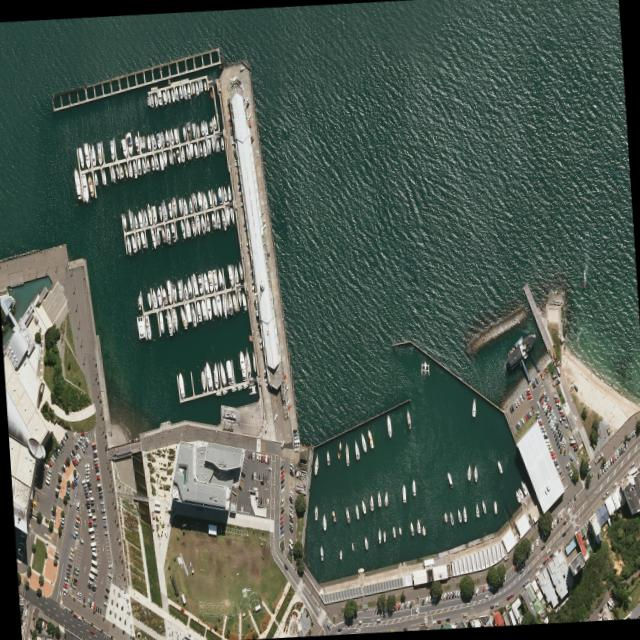large-vehicle: (594, 452, 603, 464), (552, 377, 560, 386), (90, 566, 97, 574), (548, 347, 553, 357), (556, 366, 561, 376), (88, 572, 94, 579), (91, 559, 97, 566), (90, 541, 96, 547), (504, 554, 509, 561), (88, 527, 94, 532), (475, 587, 479, 594), (613, 481, 617, 488), (289, 543, 293, 550), (76, 453, 80, 460), (289, 538, 293, 545), (247, 113, 251, 120), (265, 423, 268, 432), (81, 479, 86, 484), (540, 371, 543, 379), (602, 494, 606, 500), (605, 490, 609, 496), (92, 515, 96, 520), (88, 512, 92, 517), (97, 483, 101, 487), (570, 440, 575, 443), (90, 497, 94, 500), (86, 479, 90, 482)
ship: (505, 330, 538, 372), (238, 349, 247, 381), (73, 167, 82, 199), (204, 361, 213, 391), (81, 173, 90, 203), (136, 314, 146, 340), (244, 347, 252, 377), (179, 304, 188, 329), (225, 360, 234, 385), (165, 308, 173, 336), (83, 142, 91, 169), (144, 314, 152, 340), (191, 272, 199, 297), (219, 360, 226, 386), (190, 302, 197, 327), (178, 372, 185, 397), (126, 132, 133, 157), (166, 280, 173, 304), (207, 270, 214, 293), (227, 264, 234, 287), (216, 294, 223, 317), (87, 174, 94, 197), (222, 293, 228, 319), (202, 272, 209, 294), (217, 268, 224, 290), (231, 290, 238, 312), (200, 299, 207, 320), (360, 432, 367, 453), (353, 439, 360, 460), (367, 428, 374, 449), (220, 208, 227, 229), (121, 138, 128, 159), (172, 308, 178, 332), (227, 291, 233, 315), (386, 414, 392, 438), (212, 269, 218, 292), (206, 298, 212, 321), (127, 207, 133, 230), (162, 198, 168, 221), (147, 202, 153, 225), (90, 143, 96, 166), (78, 146, 84, 169), (130, 234, 137, 253), (187, 277, 193, 299), (196, 300, 202, 322), (195, 214, 201, 236), (150, 227, 156, 249), (313, 453, 319, 475), (213, 362, 218, 388), (177, 280, 183, 301), (190, 216, 196, 237), (200, 213, 206, 234), (172, 197, 178, 218), (170, 221, 176, 242), (156, 287, 162, 307), (211, 297, 217, 317), (152, 288, 158, 308), (197, 191, 203, 211), (185, 217, 191, 237), (192, 192, 198, 212), (180, 219, 186, 239), (200, 371, 206, 391), (134, 134, 140, 154), (186, 121, 192, 141), (97, 142, 102, 165), (215, 209, 221, 228), (135, 232, 141, 251), (132, 159, 138, 178), (520, 480, 527, 496), (159, 310, 164, 332), (241, 292, 247, 310), (202, 191, 208, 209), (207, 189, 213, 207), (217, 187, 223, 205), (140, 230, 146, 248), (137, 210, 143, 228), (158, 152, 164, 170), (198, 274, 203, 295), (166, 223, 171, 244), (360, 499, 367, 514), (110, 140, 115, 161), (183, 283, 189, 300), (182, 197, 188, 214), (160, 225, 166, 242), (447, 471, 453, 488), (229, 207, 235, 224), (126, 235, 131, 255), (406, 409, 411, 429), (172, 284, 177, 303), (162, 287, 167, 306), (234, 264, 239, 283), (152, 205, 157, 224), (345, 443, 349, 466), (238, 261, 243, 279), (122, 213, 127, 231), (202, 139, 207, 157), (111, 165, 116, 183), (237, 290, 242, 307), (211, 212, 216, 229), (225, 209, 230, 226), (178, 198, 183, 215), (143, 209, 148, 226), (462, 505, 467, 522), (345, 506, 350, 523), (151, 133, 156, 150), (154, 153, 159, 170), (160, 131, 165, 148), (146, 134, 151, 151), (141, 157, 146, 174), (164, 129, 169, 146), (169, 128, 174, 145), (497, 460, 503, 474), (481, 500, 487, 514), (168, 202, 173, 218), (133, 213, 138, 229), (472, 397, 476, 417), (156, 132, 161, 148), (185, 144, 190, 160), (191, 123, 196, 139), (182, 126, 187, 142), (173, 128, 178, 144), (156, 226, 160, 245), (402, 484, 406, 503), (147, 293, 152, 308), (158, 206, 163, 221), (449, 510, 454, 525), (409, 521, 414, 536), (363, 535, 368, 550), (206, 138, 211, 153), (211, 136, 216, 151), (166, 88, 171, 103), (186, 83, 191, 98), (115, 164, 120, 179), (102, 169, 107, 184), (193, 143, 198, 158), (206, 213, 210, 231), (518, 487, 524, 499), (457, 508, 462, 522), (416, 519, 421, 533), (150, 156, 155, 170), (176, 149, 181, 163), (198, 142, 203, 156), (189, 143, 194, 157), (123, 163, 128, 177), (178, 85, 183, 99), (170, 88, 175, 102), (194, 81, 199, 95), (467, 464, 471, 481), (128, 160, 132, 177), (515, 490, 520, 503), (331, 510, 336, 523), (188, 197, 192, 213), (475, 502, 479, 518), (322, 514, 326, 530), (314, 504, 318, 520), (370, 494, 374, 510), (377, 491, 381, 507), (412, 479, 416, 495), (384, 491, 388, 507), (227, 184, 231, 200), (137, 158, 141, 174), (200, 120, 204, 136), (158, 90, 162, 106), (326, 450, 330, 465), (355, 504, 359, 519), (223, 186, 227, 201), (163, 151, 167, 166), (204, 120, 208, 135), (154, 93, 158, 108), (183, 84, 187, 99), (175, 86, 179, 101), (493, 500, 497, 514), (146, 157, 150, 171), (220, 136, 224, 150), (120, 164, 124, 178), (213, 192, 217, 205), (168, 151, 172, 164), (216, 138, 220, 151), (196, 124, 200, 137), (162, 91, 166, 104), (94, 172, 98, 185), (320, 545, 323, 561), (474, 466, 477, 482), (392, 526, 396, 538), (378, 528, 381, 544), (172, 151, 176, 163), (181, 146, 184, 162), (191, 82, 195, 94), (199, 79, 203, 91), (209, 121, 213, 132), (203, 80, 207, 91), (213, 115, 216, 129), (150, 93, 153, 107), (358, 568, 364, 574), (422, 525, 425, 536), (444, 512, 447, 522), (147, 96, 150, 106), (339, 550, 342, 559), (210, 90, 213, 98), (383, 530, 385, 542), (339, 441, 341, 450), (583, 282, 585, 288)
small-vehicle: (540, 543, 545, 551), (51, 507, 57, 513), (421, 597, 425, 606), (92, 550, 97, 557), (289, 466, 294, 473), (229, 77, 233, 85), (245, 96, 249, 104), (273, 413, 277, 421), (164, 530, 168, 538), (457, 589, 461, 597), (454, 590, 458, 598), (448, 591, 452, 599), (424, 596, 428, 604), (409, 600, 413, 608), (406, 600, 410, 608), (400, 601, 404, 609), (397, 602, 401, 610), (81, 445, 85, 453), (85, 436, 89, 444), (71, 448, 75, 456), (75, 454, 79, 462), (74, 457, 78, 465), (238, 189, 242, 197), (524, 413, 528, 421), (536, 400, 540, 408), (557, 441, 561, 449), (550, 422, 554, 430), (79, 538, 84, 544), (75, 518, 80, 524), (525, 578, 530, 584), (546, 548, 551, 554), (64, 576, 69, 582), (68, 555, 73, 561), (77, 438, 82, 444), (50, 517, 55, 523), (45, 479, 50, 485), (236, 79, 241, 85), (565, 462, 570, 468), (627, 435, 631, 442), (233, 75, 237, 82), (280, 463, 284, 470), (289, 470, 293, 477), (584, 523, 588, 530), (630, 461, 634, 468), (280, 518, 284, 525), (289, 512, 293, 519), (289, 502, 293, 509), (289, 493, 293, 500), (289, 489, 293, 496), (289, 526, 293, 533), (403, 601, 407, 608), (394, 603, 398, 610), (280, 533, 284, 540), (280, 528, 284, 535), (75, 472, 79, 479), (82, 442, 86, 449), (50, 456, 54, 463), (61, 465, 65, 472), (64, 432, 68, 439), (63, 463, 67, 470), (53, 452, 57, 459), (52, 454, 56, 461), (265, 380, 269, 387), (515, 423, 519, 430), (559, 417, 563, 424), (533, 380, 537, 387), (561, 436, 564, 445), (90, 535, 95, 540), (376, 617, 381, 622), (66, 566, 71, 571), (67, 563, 72, 568), (79, 435, 84, 440), (19, 541, 24, 546), (527, 395, 532, 400), (250, 137, 254, 143), (287, 404, 291, 410), (262, 224, 266, 230), (261, 219, 265, 225), (241, 471, 245, 477), (266, 498, 269, 506), (73, 533, 77, 539), (75, 566, 79, 572), (88, 580, 92, 586), (103, 601, 107, 607), (238, 484, 242, 490), (90, 628, 94, 634), (95, 604, 98, 612), (91, 586, 95, 592), (91, 601, 94, 609), (87, 598, 90, 606), (78, 592, 81, 600), (290, 462, 294, 468), (538, 564, 542, 570), (519, 568, 523, 574), (482, 584, 485, 592), (443, 592, 446, 600), (549, 552, 553, 558), (631, 431, 635, 437), (611, 598, 615, 604), (531, 544, 534, 552), (563, 519, 567, 525), (562, 531, 566, 537), (553, 519, 556, 527), (279, 514, 283, 520), (280, 508, 284, 514), (289, 507, 293, 513), (280, 504, 284, 510), (280, 498, 284, 504), (280, 488, 284, 494), (280, 478, 284, 484), (280, 473, 284, 479), (289, 517, 293, 523), (428, 595, 431, 603), (289, 548, 292, 556), (74, 570, 78, 576), (63, 583, 67, 589), (63, 587, 67, 593), (26, 600, 29, 608), (24, 609, 27, 617), (76, 591, 79, 599), (73, 612, 77, 618), (77, 615, 81, 621), (72, 479, 75, 487), (60, 515, 64, 521), (46, 475, 50, 481), (58, 471, 62, 477), (66, 485, 70, 491), (66, 494, 70, 500), (76, 442, 80, 448), (60, 519, 64, 525), (59, 523, 63, 529), (54, 554, 58, 560), (70, 547, 74, 553), (47, 468, 51, 474), (48, 461, 52, 467), (70, 452, 74, 458), (56, 446, 60, 452), (57, 484, 61, 490), (260, 342, 263, 350), (263, 372, 267, 378), (264, 376, 268, 382), (239, 195, 243, 201), (521, 417, 524, 425), (520, 394, 523, 402), (548, 415, 551, 423), (542, 401, 545, 409), (526, 411, 529, 419), (555, 433, 558, 441), (563, 439, 566, 447), (539, 394, 542, 402), (553, 415, 556, 423), (574, 385, 578, 391), (568, 469, 572, 475), (567, 465, 571, 471), (234, 159, 237, 166), (287, 399, 290, 406), (261, 210, 264, 217), (99, 607, 102, 614), (485, 583, 488, 590), (452, 591, 455, 598), (446, 592, 449, 599), (281, 467, 284, 474), (586, 520, 589, 527), (588, 527, 591, 534), (289, 497, 292, 504), (280, 523, 283, 530), (327, 623, 330, 630), (74, 478, 77, 485), (84, 441, 87, 448), (72, 460, 75, 467), (61, 439, 64, 446), (59, 441, 62, 448), (55, 449, 58, 456), (251, 277, 254, 284), (250, 267, 253, 274), (246, 101, 249, 108), (244, 225, 247, 232), (516, 398, 519, 405), (509, 406, 512, 413), (511, 404, 514, 411), (528, 410, 531, 417), (547, 411, 550, 418), (544, 405, 547, 412), (560, 434, 563, 441), (558, 430, 561, 437), (557, 427, 560, 434), (552, 426, 555, 433), (549, 419, 552, 426), (551, 412, 554, 419), (547, 402, 550, 409), (546, 397, 549, 404), (544, 394, 547, 401), (543, 391, 546, 398), (532, 382, 535, 389), (535, 377, 538, 384), (556, 438, 559, 445), (240, 66, 244, 71), (293, 428, 297, 433), (268, 466, 272, 471), (294, 447, 299, 451), (103, 523, 107, 528), (108, 573, 112, 578), (104, 594, 108, 599), (74, 526, 78, 531), (75, 523, 79, 528), (76, 515, 80, 520), (105, 587, 109, 592), (180, 607, 184, 612), (87, 584, 91, 589), (506, 595, 510, 600), (289, 522, 293, 527), (337, 627, 341, 632), (102, 515, 106, 520), (64, 580, 68, 585), (66, 570, 70, 575), (73, 577, 77, 582), (73, 581, 77, 586), (72, 584, 76, 589), (93, 453, 97, 458), (70, 552, 74, 557), (83, 483, 87, 488), (99, 494, 103, 499), (65, 490, 69, 495), (55, 487, 59, 492), (55, 549, 59, 554), (541, 531, 543, 541), (490, 604, 494, 609), (526, 391, 530, 396), (569, 456, 573, 461), (283, 373, 286, 379), (285, 386, 288, 392), (281, 483, 284, 489), (71, 483, 74, 489), (63, 434, 66, 440), (64, 461, 67, 467), (263, 367, 266, 373), (246, 240, 249, 246), (517, 421, 520, 427), (514, 401, 517, 407), (521, 393, 524, 399), (541, 397, 544, 403), (554, 420, 557, 426), (550, 408, 553, 414), (265, 454, 267, 462), (261, 454, 263, 462), (259, 453, 261, 461), (252, 452, 254, 460), (265, 474, 267, 482), (262, 473, 264, 481), (294, 443, 298, 447), (294, 435, 298, 439), (293, 432, 297, 436), (256, 149, 258, 157), (108, 564, 112, 568), (91, 508, 95, 512), (89, 600, 91, 608), (510, 593, 514, 597), (494, 603, 498, 607), (625, 440, 627, 448), (462, 613, 466, 617), (432, 620, 436, 624), (260, 481, 264, 485), (403, 627, 407, 631), (104, 531, 108, 535), (597, 471, 599, 479), (66, 574, 70, 578), (85, 471, 89, 475), (85, 463, 89, 467), (94, 461, 98, 465), (94, 457, 98, 461), (95, 468, 99, 472), (92, 446, 96, 450), (95, 465, 99, 469), (96, 472, 100, 476), (86, 502, 90, 506), (85, 498, 89, 502), (87, 482, 91, 486), (88, 486, 92, 490), (101, 509, 105, 513), (98, 490, 102, 494), (96, 476, 100, 480), (18, 552, 22, 556), (21, 534, 25, 538), (573, 447, 577, 451), (535, 410, 539, 414), (556, 402, 560, 406), (604, 463, 606, 471), (610, 457, 612, 465), (569, 436, 573, 440), (599, 468, 601, 476), (526, 388, 530, 392), (522, 582, 525, 587), (546, 556, 549, 561), (543, 560, 546, 565), (92, 450, 97, 453), (74, 444, 77, 449), (247, 247, 250, 252), (542, 432, 547, 435), (553, 395, 558, 398), (263, 455, 265, 462), (250, 452, 252, 459), (248, 451, 250, 458), (258, 472, 260, 479), (251, 472, 253, 479), (256, 498, 258, 505), (267, 456, 269, 463), (260, 497, 262, 504), (241, 506, 243, 513), (97, 606, 99, 613), (83, 596, 85, 603), (557, 516, 559, 523), (551, 522, 553, 529), (536, 539, 538, 546), (44, 621, 46, 628), (623, 444, 625, 451), (621, 446, 623, 453), (619, 448, 621, 455), (616, 450, 618, 457), (473, 587, 475, 594), (230, 128, 232, 135), (556, 423, 558, 430), (554, 430, 556, 437), (606, 461, 608, 468), (612, 455, 614, 462), (614, 452, 616, 459), (601, 466, 603, 473), (256, 453, 258, 459), (91, 547, 95, 550), (88, 524, 92, 527), (88, 520, 92, 523), (93, 523, 97, 526), (93, 604, 95, 610), (485, 594, 488, 598), (560, 512, 562, 518), (446, 618, 450, 621), (437, 620, 441, 623), (86, 506, 90, 509), (86, 467, 89, 471), (88, 490, 92, 493), (87, 509, 90, 513), (85, 475, 89, 478), (100, 501, 103, 505), (81, 432, 85, 435), (47, 473, 50, 477), (233, 150, 235, 156), (537, 419, 541, 422), (541, 429, 545, 432), (540, 425, 544, 428), (538, 422, 542, 425), (555, 399, 559, 402), (565, 424, 569, 427), (562, 417, 566, 420), (559, 410, 563, 413), (558, 406, 561, 410), (608, 460, 610, 466), (549, 406, 551, 412), (545, 439, 549, 442), (546, 442, 550, 445), (553, 459, 557, 462), (551, 455, 555, 458), (549, 449, 553, 452), (548, 445, 552, 448), (27, 637, 30, 640), (85, 495, 88, 498), (561, 413, 564, 416), (573, 444, 576, 447), (555, 462, 558, 465), (550, 452, 553, 455), (254, 472, 255, 479)
